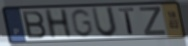B: (21, 10, 48, 40)
G: (70, 8, 94, 39)
H: (43, 8, 74, 40)
T: (117, 7, 136, 36)
U: (90, 6, 119, 39)
Z: (138, 6, 168, 37)
